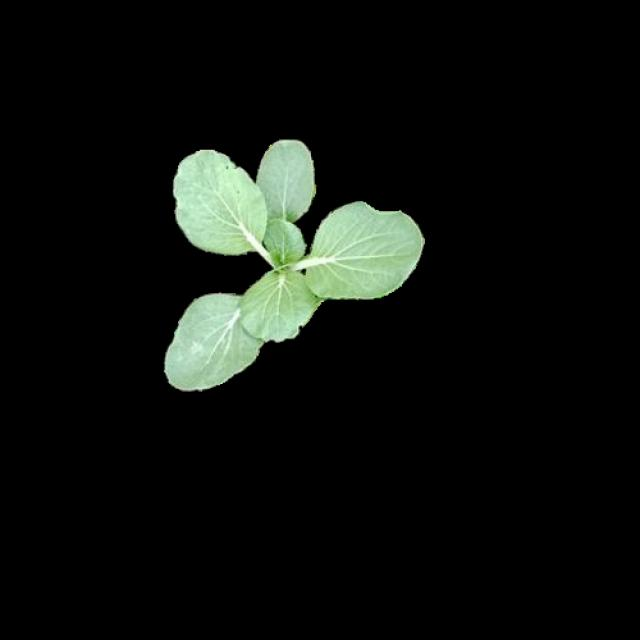not-mature: (162, 141, 424, 388)
unhealthy: (172, 150, 270, 261), (165, 290, 251, 386)
